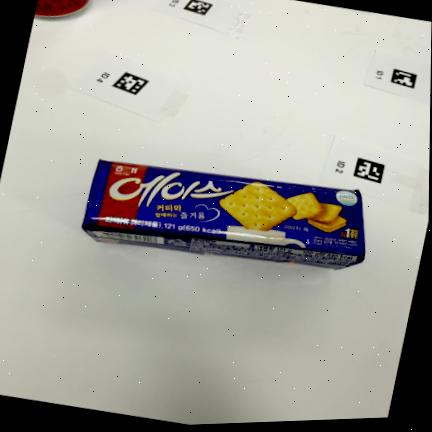cracker_ace: (82, 160, 365, 270)
